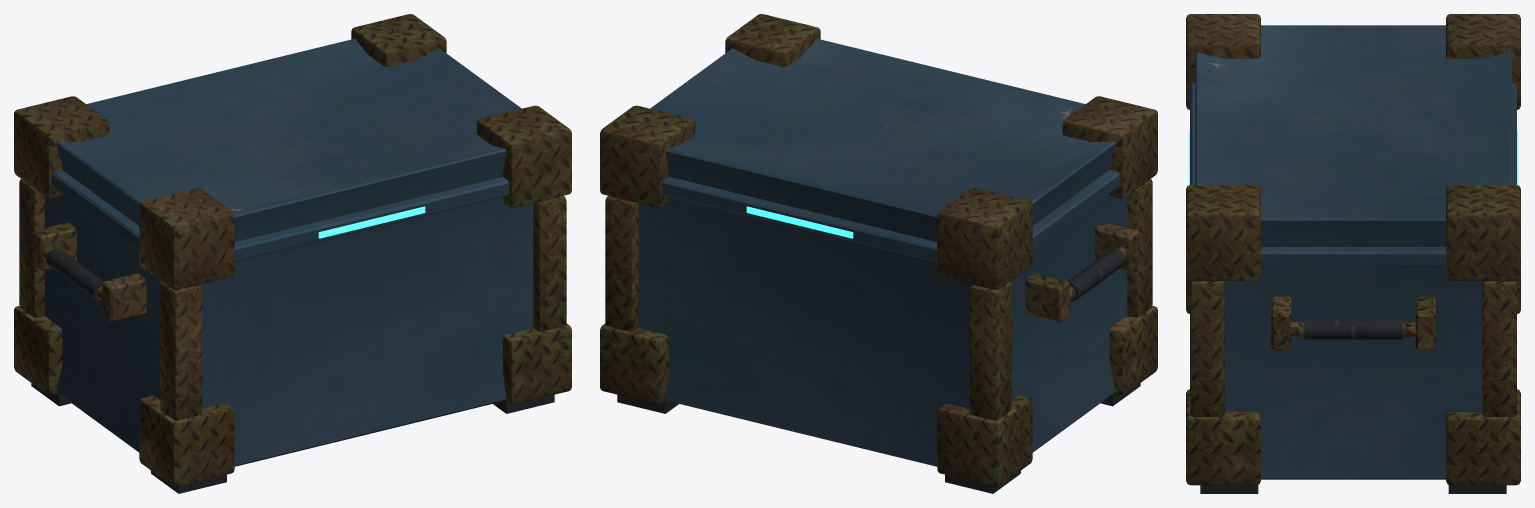
File: scifi-supply-crate_final.glb
The picture shows the model from 3 angles, left to right: view 1: azimuth 30°, elevation 25°; view 2: azimuth 150°, elevation 25°; view 3: azimuth 270°, elevation 25°; orthographic projection. The views are drawn at different scales.
Parts seen in each view (by area): view 1: SM_SciFiCrate_Body, SM_SciFiCrate_Corners, SM_SciFiCrate_LidBand, SM_SciFiCrate_Handles, SM_SciFiCrate_Rubber, SM_SciFiCrate_StatusLight; view 2: SM_SciFiCrate_Body, SM_SciFiCrate_Corners, SM_SciFiCrate_LidBand, SM_SciFiCrate_Handles, SM_SciFiCrate_Rubber, SM_SciFiCrate_StatusLight; view 3: SM_SciFiCrate_Body, SM_SciFiCrate_Corners, SM_SciFiCrate_LidBand, SM_SciFiCrate_Rubber, SM_SciFiCrate_Handles.
Part boxes in pixels (left/top/right/bottom): SM_SciFiCrate_Body: left=44, top=38, right=533, bottom=466; SM_SciFiCrate_Corners: left=14, top=14, right=571, bottom=486; SM_SciFiCrate_LidBand: left=51, top=170, right=509, bottom=261; SM_SciFiCrate_Handles: left=32, top=222, right=146, bottom=321; SM_SciFiCrate_Rubber: left=31, top=248, right=554, bottom=493; SM_SciFiCrate_StatusLight: left=318, top=206, right=425, bottom=238; SM_SciFiCrate_Body: left=638, top=38, right=1127, bottom=466; SM_SciFiCrate_Corners: left=600, top=14, right=1157, bottom=486; SM_SciFiCrate_LidBand: left=662, top=170, right=1120, bottom=261; SM_SciFiCrate_Handles: left=1025, top=222, right=1139, bottom=321; SM_SciFiCrate_Rubber: left=617, top=248, right=1140, bottom=493; SM_SciFiCrate_StatusLight: left=746, top=206, right=853, bottom=238; SM_SciFiCrate_Body: left=1195, top=25, right=1511, bottom=479; SM_SciFiCrate_Corners: left=1186, top=14, right=1520, bottom=485; SM_SciFiCrate_LidBand: left=1190, top=83, right=1516, bottom=266; SM_SciFiCrate_Rubber: left=1200, top=319, right=1506, bottom=493; SM_SciFiCrate_Handles: left=1271, top=296, right=1435, bottom=350.
Size of the model in its own units: 0.926 by 0.545 by 0.58.
Materials: 4 (3 with a texture image).
